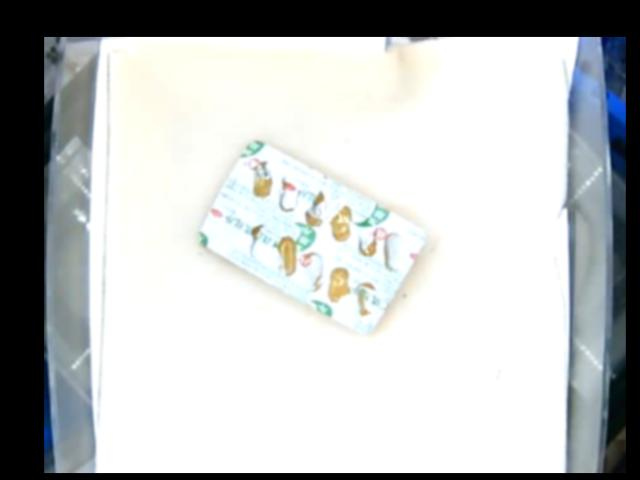Medicine: (194, 139, 424, 331)
